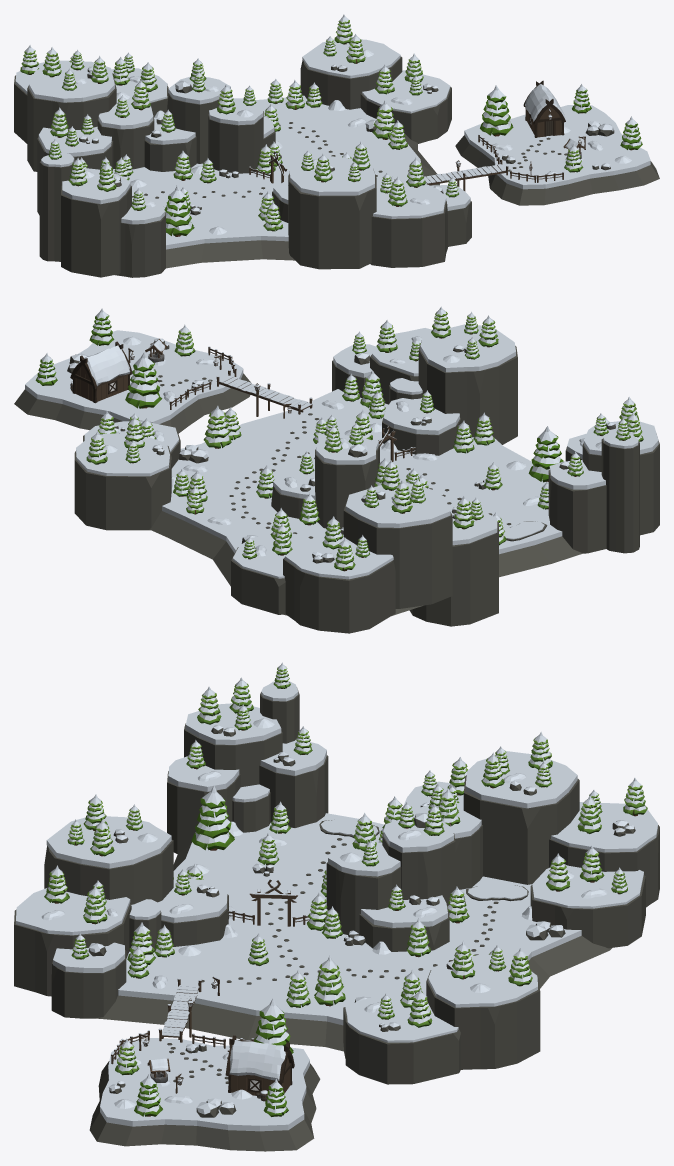
File: Winter_fighting_map.fbx
3 renders of one model, top to bottom at view 1: azimuth 30°, elevation 25°; view 2: azimuth 150°, elevation 25°; view 3: azimuth 270°, elevation 25°, orthographic. The views are drawn at different scales.
Parts seen in each view (by area): view 1: Plane.680, Plane.718, Vert.108, Vert.102, Vert.107, Vert.087, Vert.104, Vert.105, Vert.100, Vert.101, Vert.091, Vert.089 (+24 smaller); view 2: Plane.680, Plane.718, Vert.087, Vert.080, Vert.108, Vert.104, Vert.113, Vert.103, Vert.112, Vert.091, Vert.083, Vert.121 (+20 smaller); view 3: Plane.680, Plane.718, Vert.087, Vert.104, Vert.105, Vert.108, Vert.107, Vert.083, Vert.080, Vert.109, Vert.102, Vert.100 (+15 smaller).
Part boxes in pixels (bbox=[...]): Plane.680: bbox=[113, 95, 439, 268]; Plane.718: bbox=[455, 105, 659, 205]; Vert.108: bbox=[288, 155, 376, 269]; Vert.102: bbox=[61, 168, 131, 277]; Vert.107: bbox=[370, 180, 447, 267]; Vert.087: bbox=[27, 61, 116, 171]; Vert.104: bbox=[300, 39, 402, 109]; Vert.105: bbox=[360, 70, 451, 143]; Vert.100: bbox=[208, 98, 263, 173]; Vert.101: bbox=[115, 197, 165, 277]; Vert.091: bbox=[167, 76, 231, 163]; Vert.089: bbox=[97, 102, 154, 169]; Plane.680: bbox=[149, 389, 582, 615]; Plane.718: bbox=[14, 330, 250, 433]; Vert.087: bbox=[343, 482, 452, 608]; Vert.080: bbox=[283, 534, 395, 633]; Vert.108: bbox=[418, 324, 517, 444]; Vert.104: bbox=[74, 433, 171, 530]; Vert.113: bbox=[409, 505, 498, 626]; Vert.103: bbox=[548, 460, 606, 553]; Vert.112: bbox=[601, 439, 639, 553]; Vert.091: bbox=[315, 435, 377, 529]; Vert.083: bbox=[231, 533, 312, 614]; Vert.121: bbox=[382, 398, 461, 455]; Plane.680: bbox=[96, 813, 611, 1051]; Plane.718: bbox=[89, 1038, 320, 1151]; Vert.087: bbox=[463, 751, 579, 884]; Vert.104: bbox=[426, 954, 540, 1069]; Vert.105: bbox=[343, 994, 460, 1084]; Vert.108: bbox=[44, 816, 173, 904]; Vert.107: bbox=[14, 888, 131, 996]; Vert.083: bbox=[530, 864, 645, 948]; Vert.080: bbox=[549, 802, 659, 907]; Vert.109: bbox=[51, 942, 126, 1018]; Vert.102: bbox=[184, 703, 282, 787]; Vert.100: bbox=[326, 842, 401, 935].
Bounding box in the file's own units: 7731 × 1904 × 6050.
Materials: 8 (1 with a texture image).
